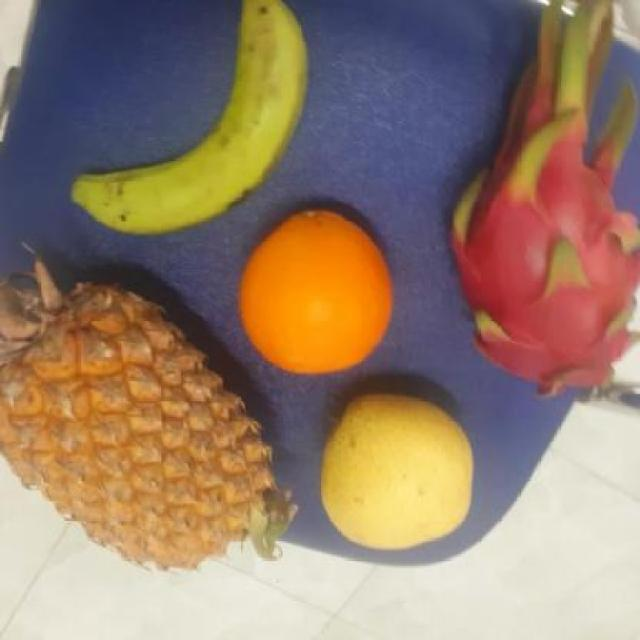banana: (69, 7, 314, 242)
dragon fruit: (452, 126, 640, 397)
guava: (240, 209, 398, 373)
oren: (238, 209, 398, 376)
pear: (315, 394, 480, 551)
pineapple: (1, 283, 285, 574)
